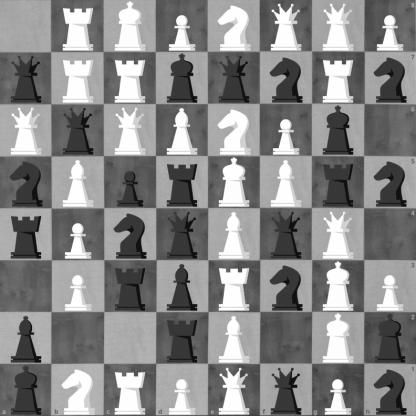B: (53, 157, 104, 208), (157, 105, 208, 156), (209, 209, 260, 260), (209, 313, 260, 364), (261, 157, 312, 208)
K: (105, 1, 156, 52), (209, 157, 260, 208), (313, 261, 364, 312), (313, 313, 364, 364)
N: (52, 364, 104, 416), (209, 1, 260, 52), (209, 105, 260, 156)
P: (156, 364, 209, 416), (312, 364, 364, 416), (364, 0, 416, 52), (364, 260, 416, 312), (53, 209, 104, 260), (53, 261, 104, 312), (157, 1, 208, 52), (261, 105, 312, 156)
Q: (209, 364, 260, 416), (1, 105, 52, 156), (105, 105, 156, 156), (261, 1, 312, 52), (313, 1, 364, 52), (313, 209, 364, 260)
R: (104, 364, 156, 416), (53, 1, 104, 52), (53, 53, 104, 104), (105, 53, 156, 104), (209, 261, 260, 312), (313, 53, 364, 104)
b: (1, 313, 52, 364), (157, 261, 208, 312)
board: (0, 0, 415, 415)
k: (0, 364, 52, 416), (364, 312, 416, 364), (157, 53, 208, 104), (313, 105, 364, 156)
n: (364, 156, 416, 209), (364, 52, 416, 104), (364, 364, 416, 416), (1, 157, 52, 208), (105, 209, 156, 260), (261, 53, 312, 104), (261, 261, 312, 312)
p: (105, 157, 156, 208)
q: (260, 364, 312, 416), (1, 53, 52, 104), (53, 105, 104, 156), (157, 209, 208, 260), (209, 53, 260, 104), (261, 209, 312, 260)
r: (1, 209, 52, 260), (105, 261, 156, 312), (157, 157, 208, 208), (157, 313, 208, 364), (313, 157, 364, 208)
